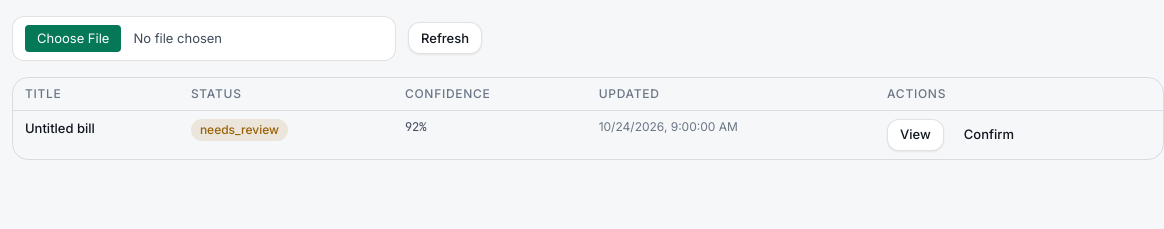
Test: DocumentManager › confirms a needs_review document through the review endpoint
Click the button "Confirm".
click(989, 135)  # box [952,119,1026,151]
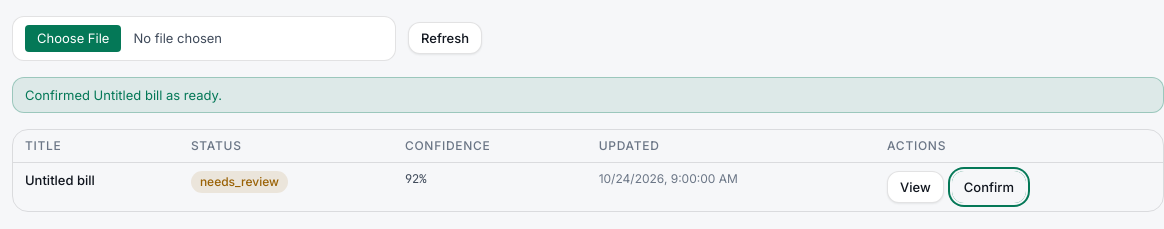
Now the message shows "Confirmed Untitled bill", box [25,87,222,103]
